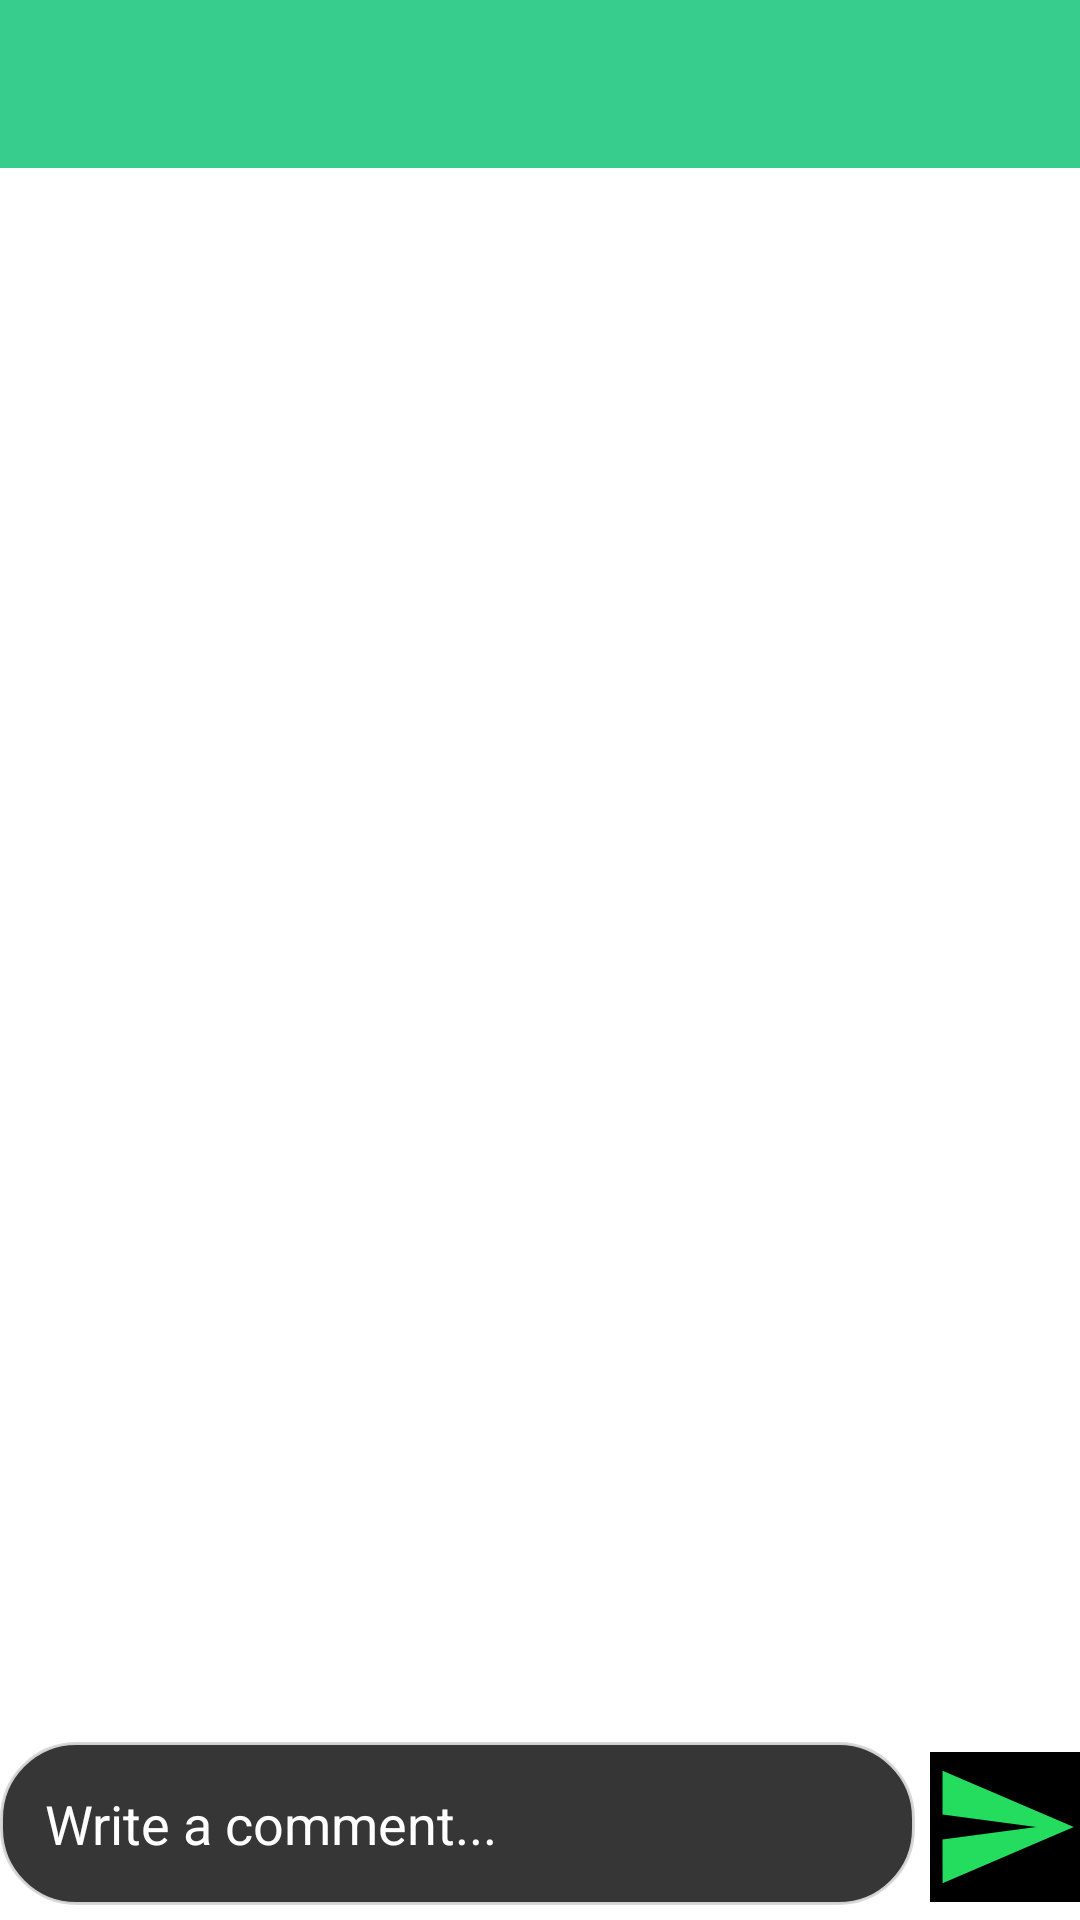

Icons on this 1080 × 1920 Android screen, each with the point to tap as (x,y):
send: (1005,1827)
